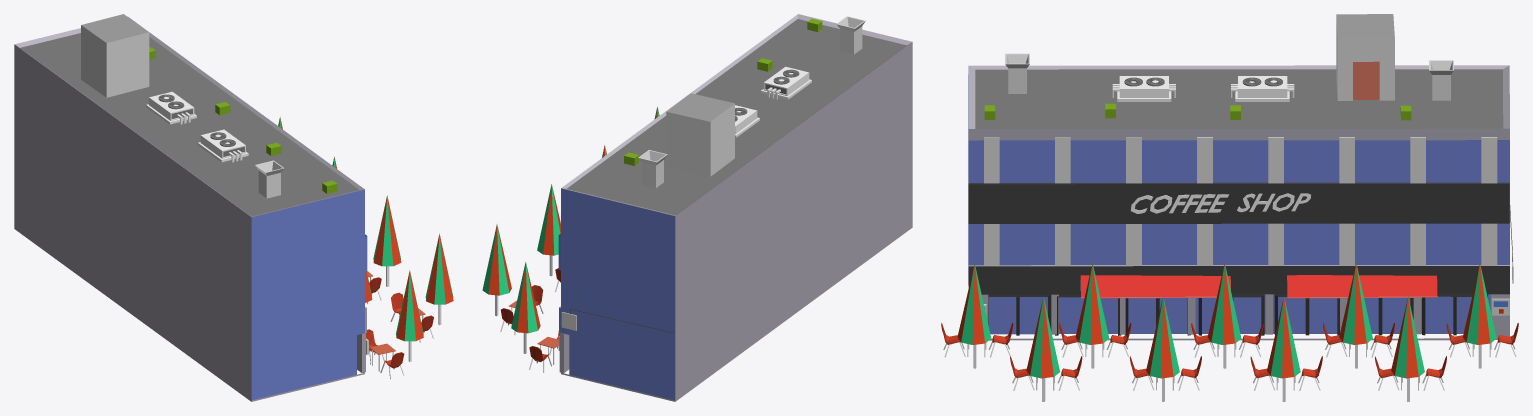
File: Coffee_Shop.glb
3 renders of one model, left to right at view 1: azimuth 30°, elevation 25°; view 2: azimuth 150°, elevation 25°; view 3: azimuth 270°, elevation 25°, orthographic. The views are drawn at different scales.
Visible parts, largest first — view 1: Main_Building, Outer_Siting, Cube.6638, Cube.050, Cube.051, Cube.6635; view 2: Main_Building, Cube.6638, Outer_Siting, Cube.051, Cube.6635, Cube.6634, Cube.050, Cube.6626; view 3: Main_Building, Outer_Siting, Cube.6639, Cube.6638, Cube.6624, Cube.6623, Cube.050, Cube.051, Cube.6635, Cube.6634.
Part boxes in pixels (x1,y1,x2,y2): Main_Building: [14, 17, 367, 401]; Outer_Siting: [278, 116, 453, 379]; Cube.6638: [81, 14, 149, 97]; Cube.050: [146, 91, 196, 124]; Cube.051: [198, 129, 248, 162]; Cube.6635: [255, 160, 284, 198]; Main_Building: [558, 14, 912, 401]; Cube.6638: [666, 93, 734, 176]; Outer_Siting: [482, 106, 659, 372]; Cube.051: [761, 66, 811, 99]; Cube.6635: [836, 16, 865, 54]; Cube.6634: [638, 150, 667, 187]; Cube.050: [735, 105, 759, 137]; Cube.6626: [561, 308, 673, 332]; Main_Building: [968, 65, 1509, 340]; Outer_Siting: [941, 263, 1518, 401]; Cube.6639: [984, 137, 1497, 265]; Cube.6638: [1336, 14, 1394, 100]; Cube.6624: [1287, 275, 1437, 298]; Cube.6623: [1080, 275, 1230, 298]; Cube.050: [1231, 76, 1294, 101]; Cube.051: [1112, 76, 1175, 101]; Cube.6635: [1005, 53, 1029, 93]; Cube.6634: [1429, 60, 1453, 100].
Bounding box in the file's own units: 0.2468 × 0.2396 × 0.4607.
